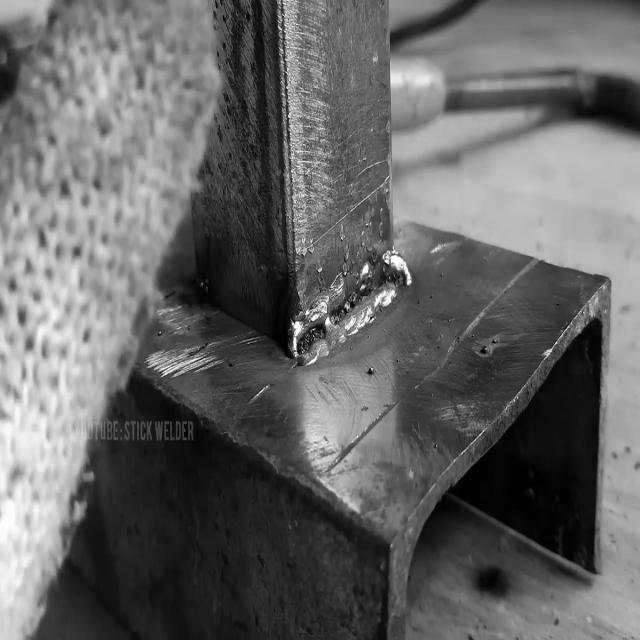Bad Welding: (288, 250, 412, 366)
Porosity: (328, 290, 362, 324), (296, 320, 326, 356)
